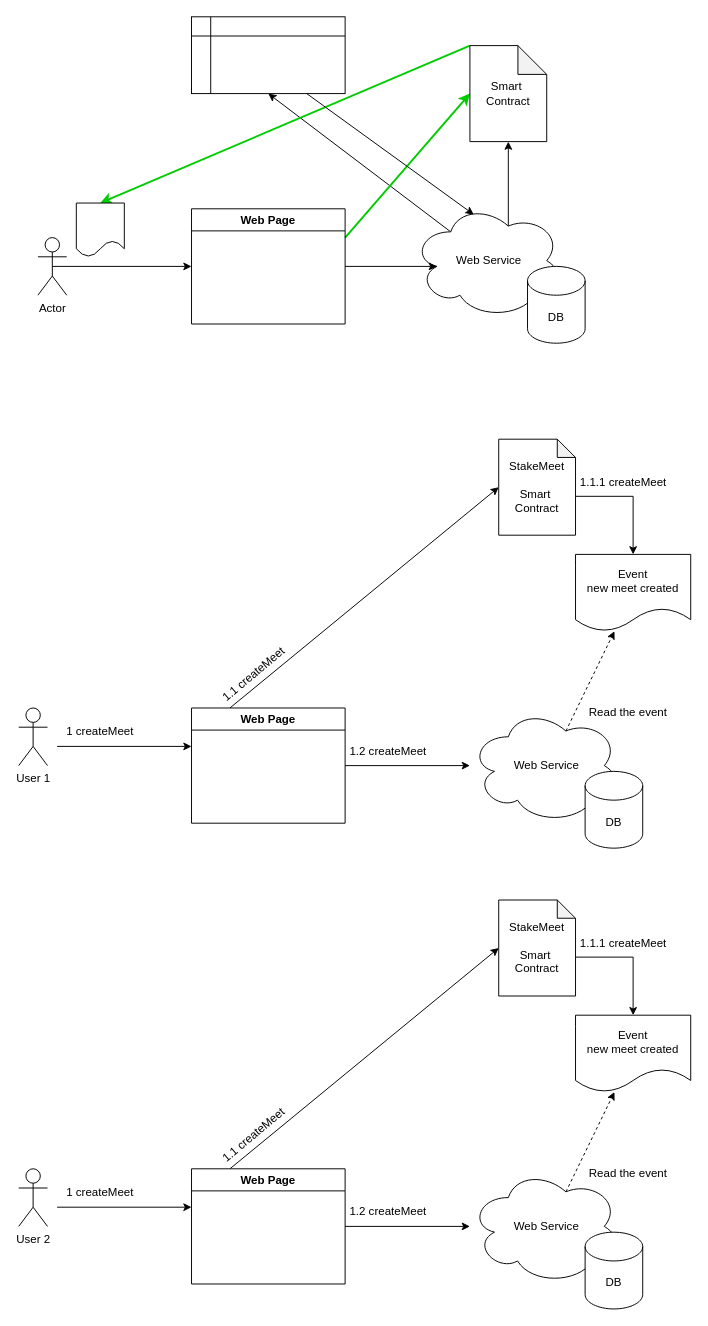
The diagram is 708 pixels wide and 1326 high, and some of its shapes have lost their labels. Here are the shapes that lost their labels. From the top down, the box of each, then its label:
(191, 16, 345, 94): Meet Google
(75, 202, 124, 257): Wallet EMail
